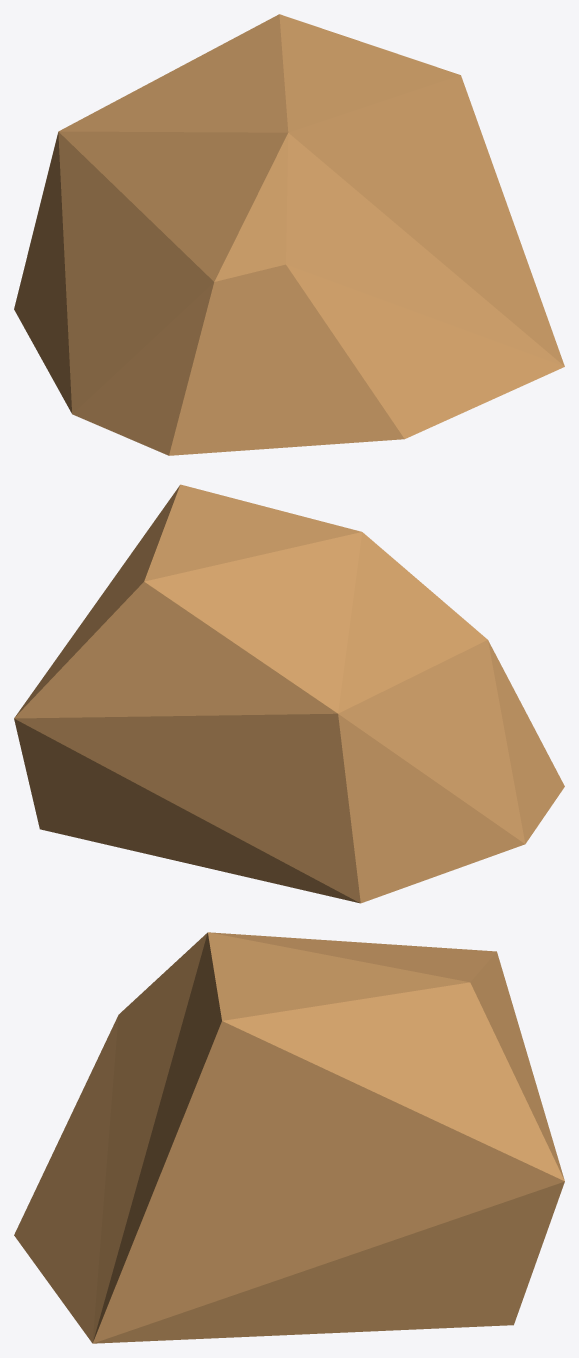
Rendered from decoration_stone_09.glb.
The picture shows the model from 3 angles, top to bottom: view 1: azimuth 30°, elevation 25°; view 2: azimuth 150°, elevation 25°; view 3: azimuth 270°, elevation 25°; orthographic projection. The views are drawn at different scales.
Parts seen in each view (by area): view 1: Plane.063; view 2: Plane.063; view 3: Plane.063.
Boxes of the visible parts, <box> form: Plane.063: <box>14,14,564,455</box>; Plane.063: <box>14,484,564,903</box>; Plane.063: <box>14,932,564,1343</box>.
Bounding box in the file's own units: 14.4 × 8.66 × 14.51.
Materials: 1 (1 with a texture image).
